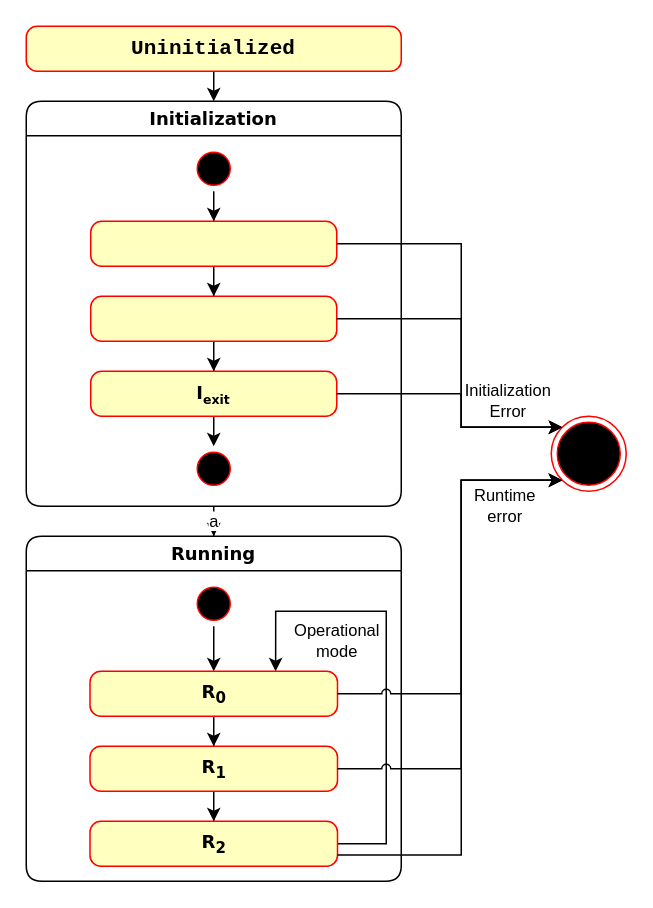
Image size: 653x908. Some labels were removed from this diagram. Each missing label, with the centre of its shape:
"Error" goes at (588,453).
"I 0" goes at (213,243).
"I 1" goes at (213,318).
